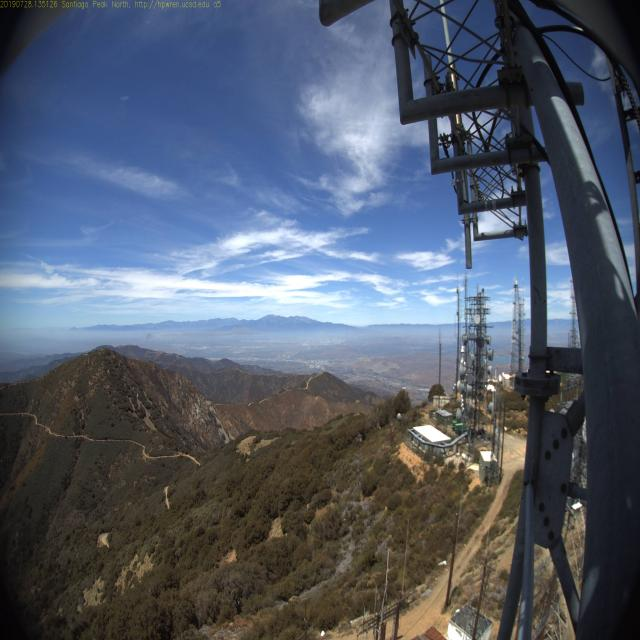smoke: (140, 322, 178, 358)
